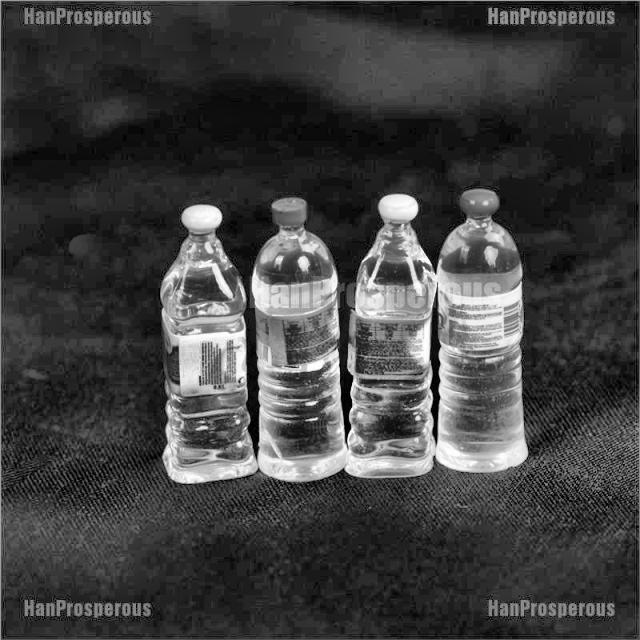waterbottle: (419, 184, 544, 480), (335, 186, 454, 484), (146, 195, 264, 492), (238, 191, 352, 488)
